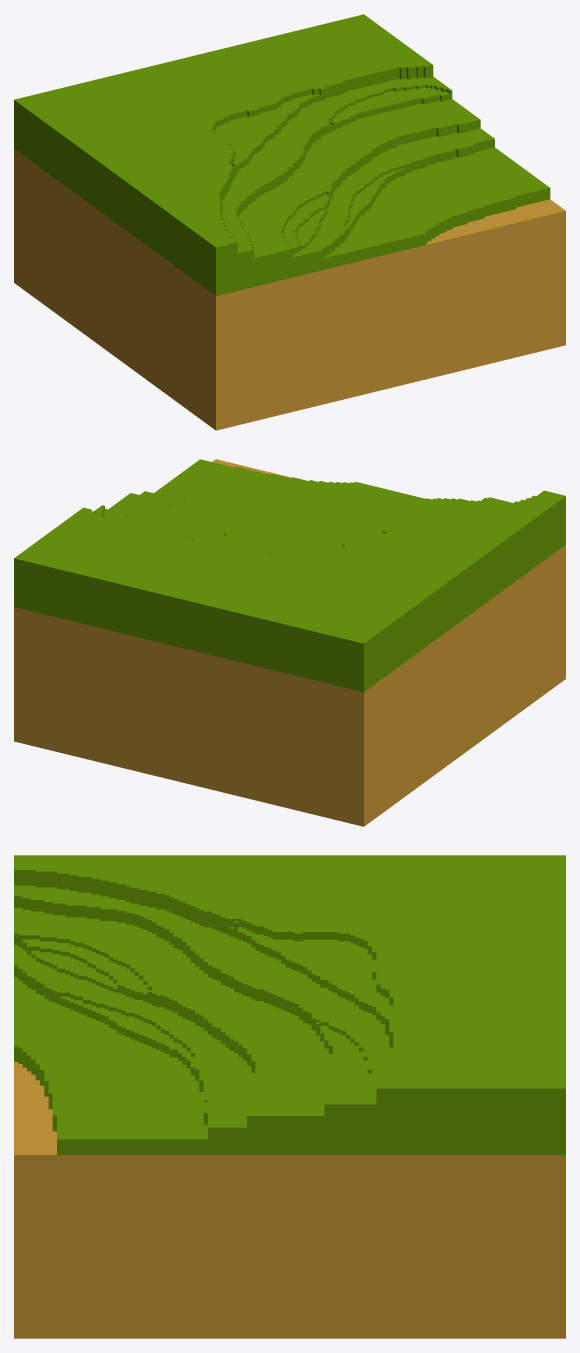
3 views of the same model, one above another, from view 1: azimuth 30°, elevation 25°; view 2: azimuth 150°, elevation 25°; view 3: azimuth 270°, elevation 25° (orthographic). The views are drawn at different scales.
Visible parts, largest first — view 1: 13B; view 2: 13B; view 3: 13B.
Boxes of the visible parts, x1=… form: 13B: x1=14, y1=14, x2=565, y2=430; 13B: x1=14, y1=459, x2=565, y2=826; 13B: x1=14, y1=855, x2=565, y2=1338.
Size of the model in its own units: 12.8 by 6.4 by 12.8.
1 material, 1 textured.
